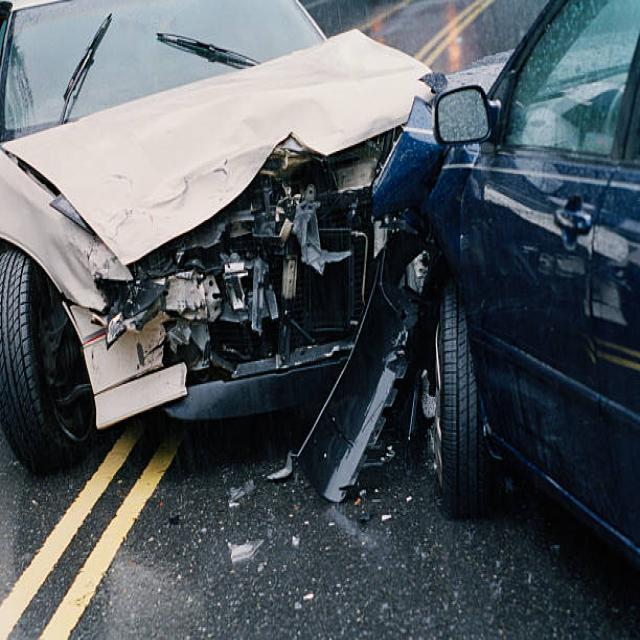accident: (4, 4, 640, 522)
